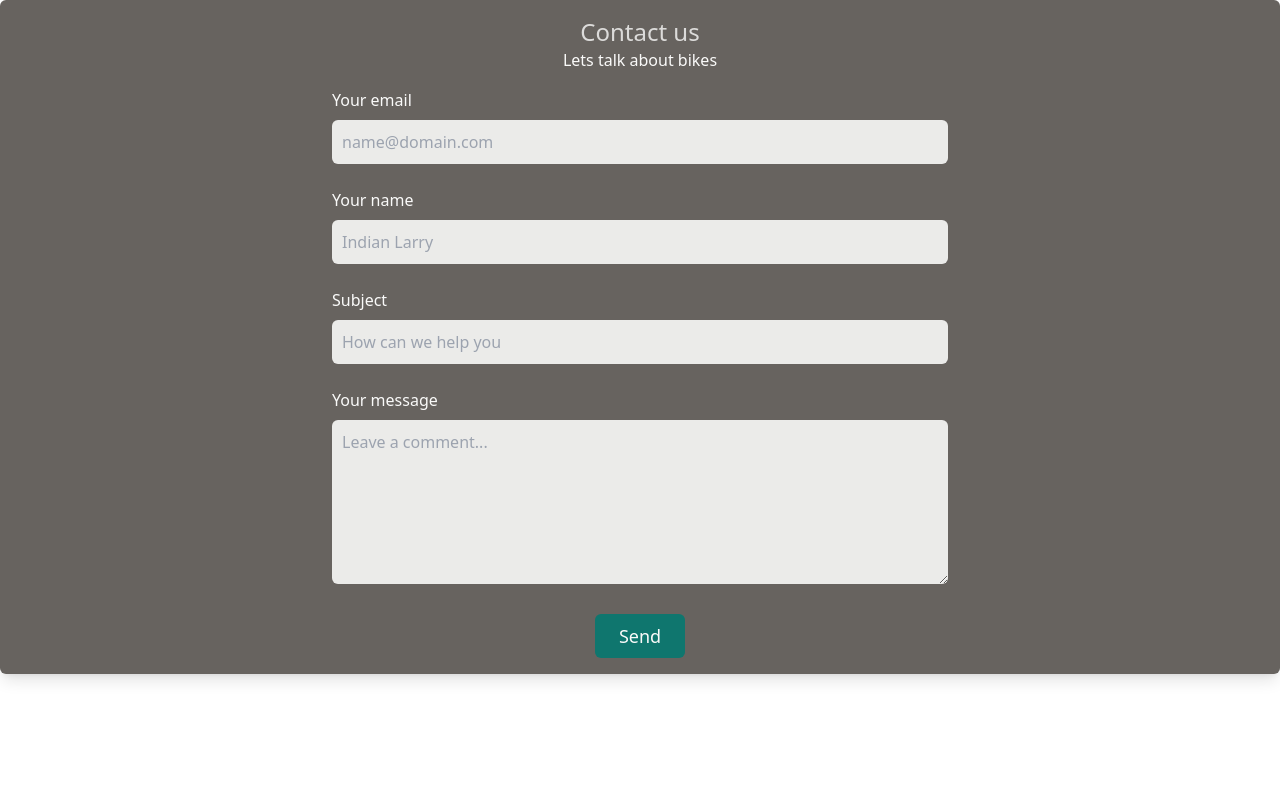
Test: ContactPage › validator should display message for invalid email input and prevent submission on click
Type "invalid email address" into the field with test id "email". click: (640, 142)
box: [332, 120, 948, 164]
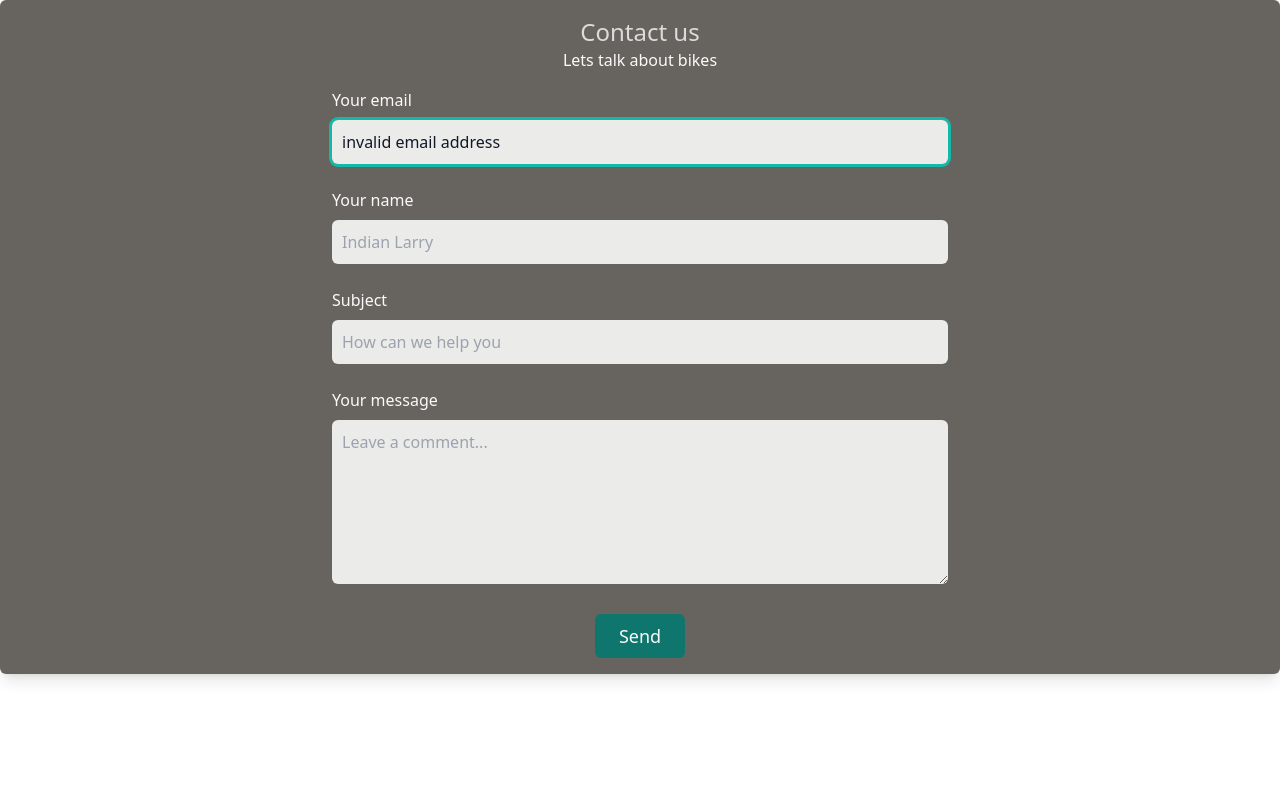
Type "valid input" into the field with test id "senderName". click: (640, 242)
box: [332, 220, 948, 264]
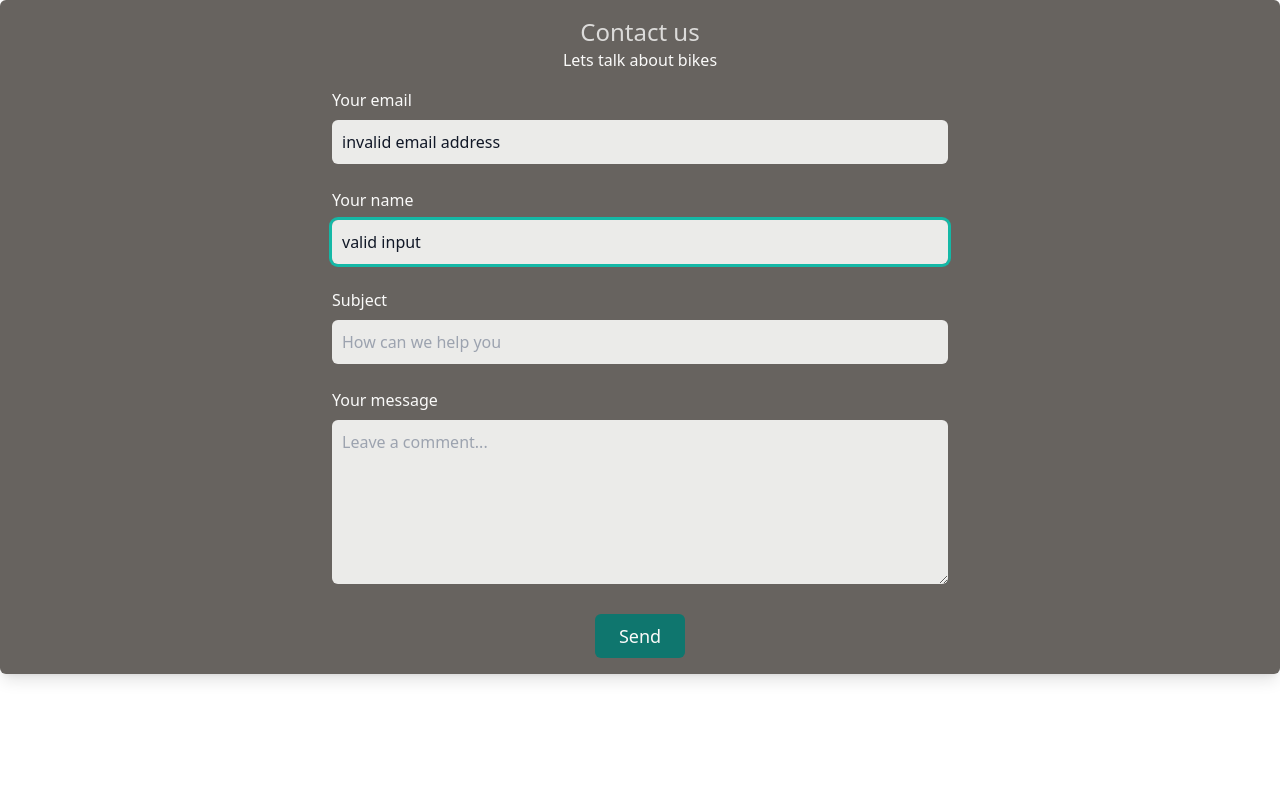
Type "valid input" into the field with test id "subject". click: (640, 342)
box: [332, 320, 948, 364]
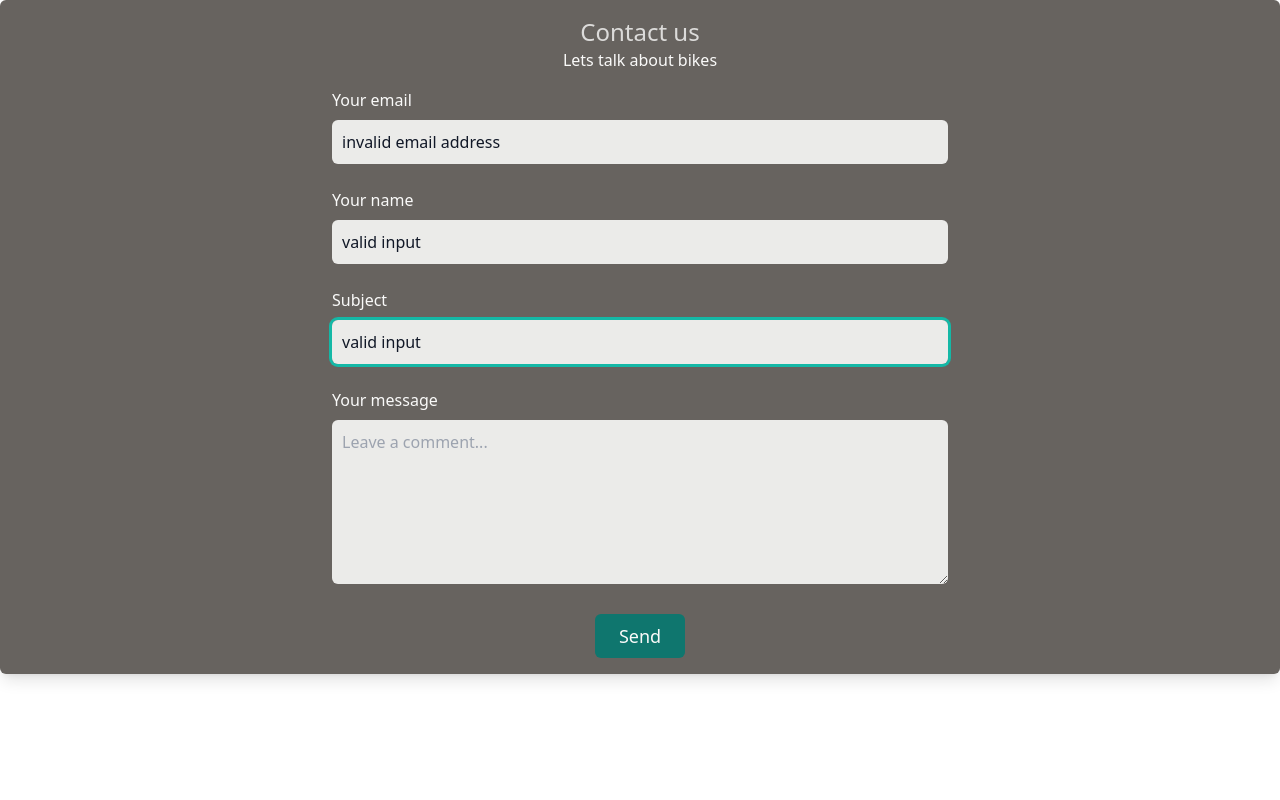
Type "valid input" into the text box with test id "message". click: (640, 502)
box: [332, 420, 948, 584]
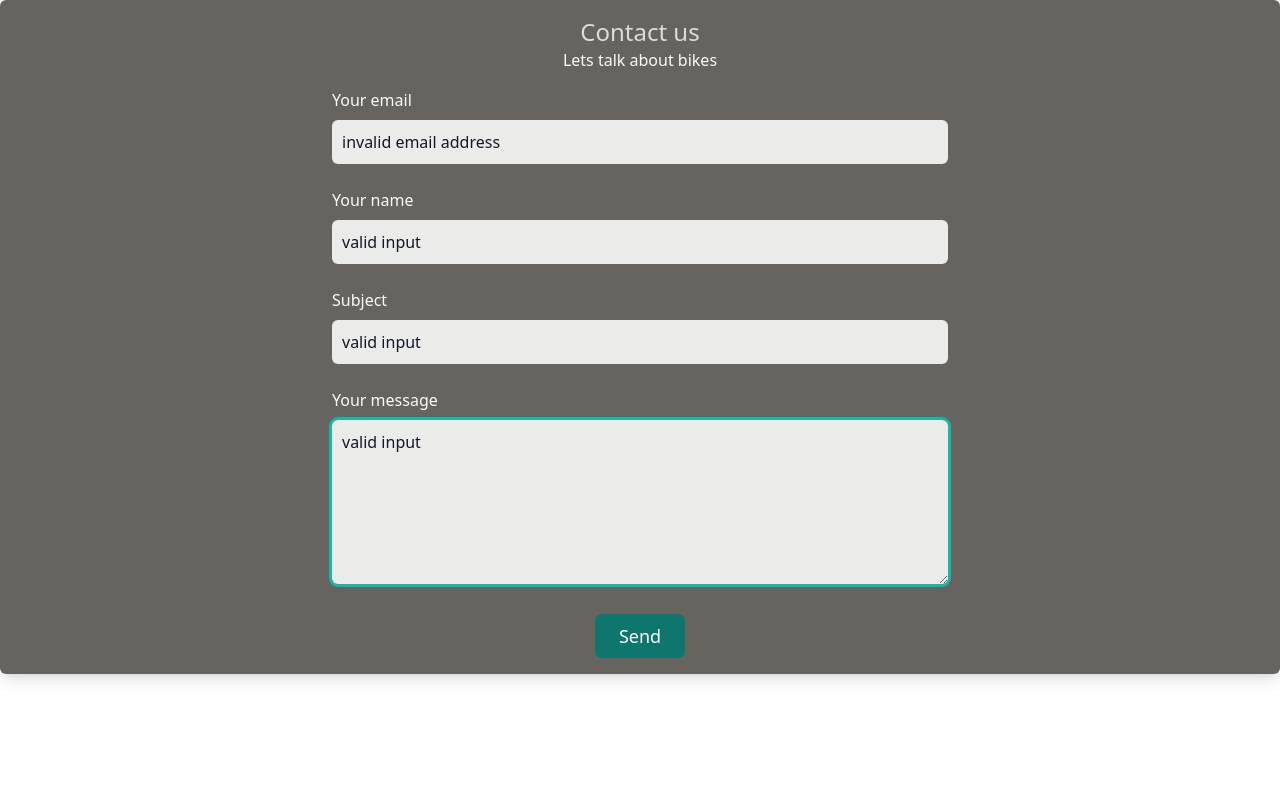
Click the button with test id "contact-form-submit-button". click: (640, 636)
box: [595, 614, 685, 658]
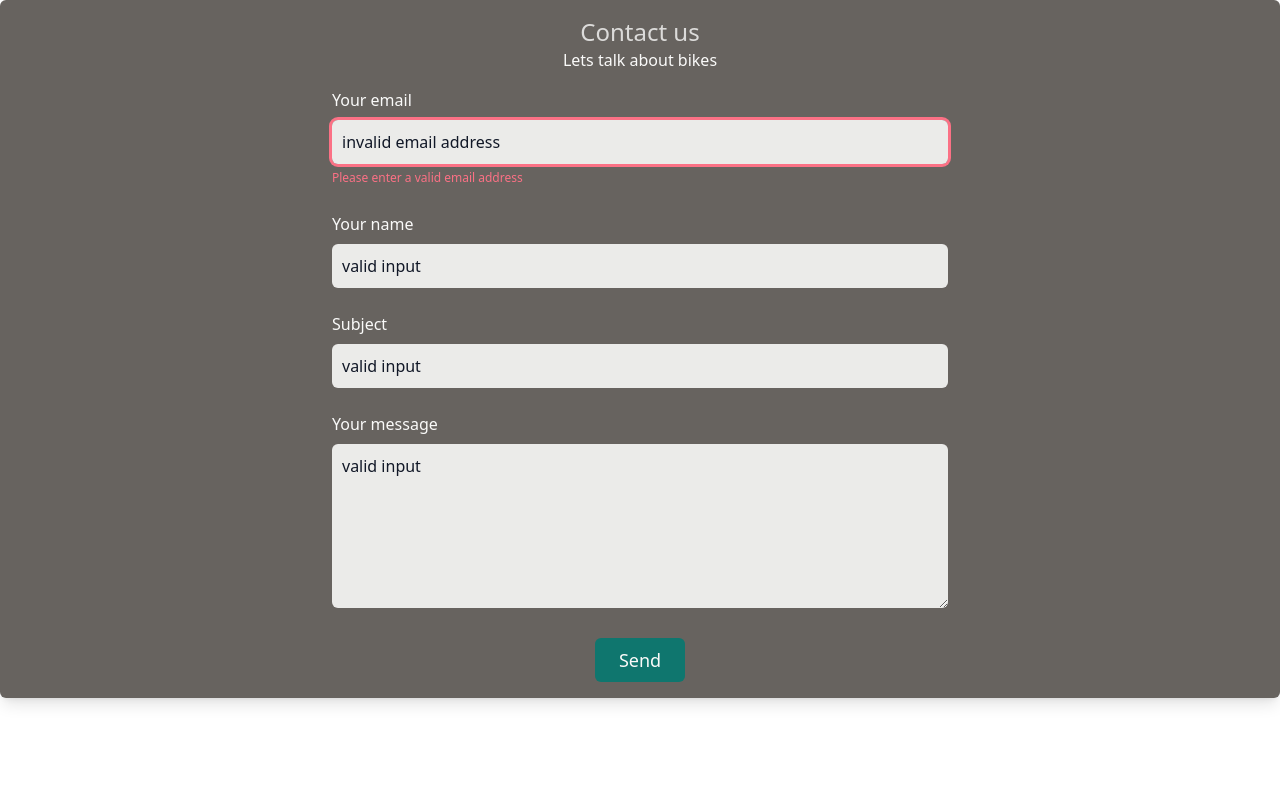
Expected: the text "Please enter a valid email address" is shown, [332, 169, 523, 186]
